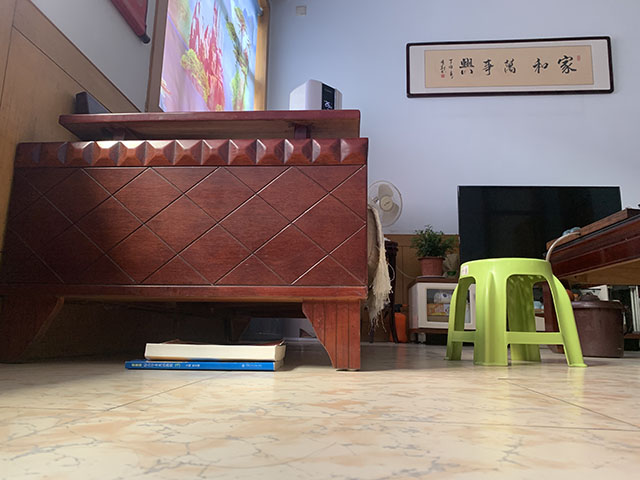book: (123, 337, 287, 370)
sofa: (1, 109, 396, 373)
stool: (444, 255, 588, 369)
table: (542, 204, 640, 355)
trashcan: (571, 291, 629, 359)
